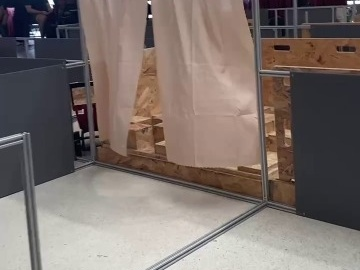curtain: (76, 0, 263, 165)
